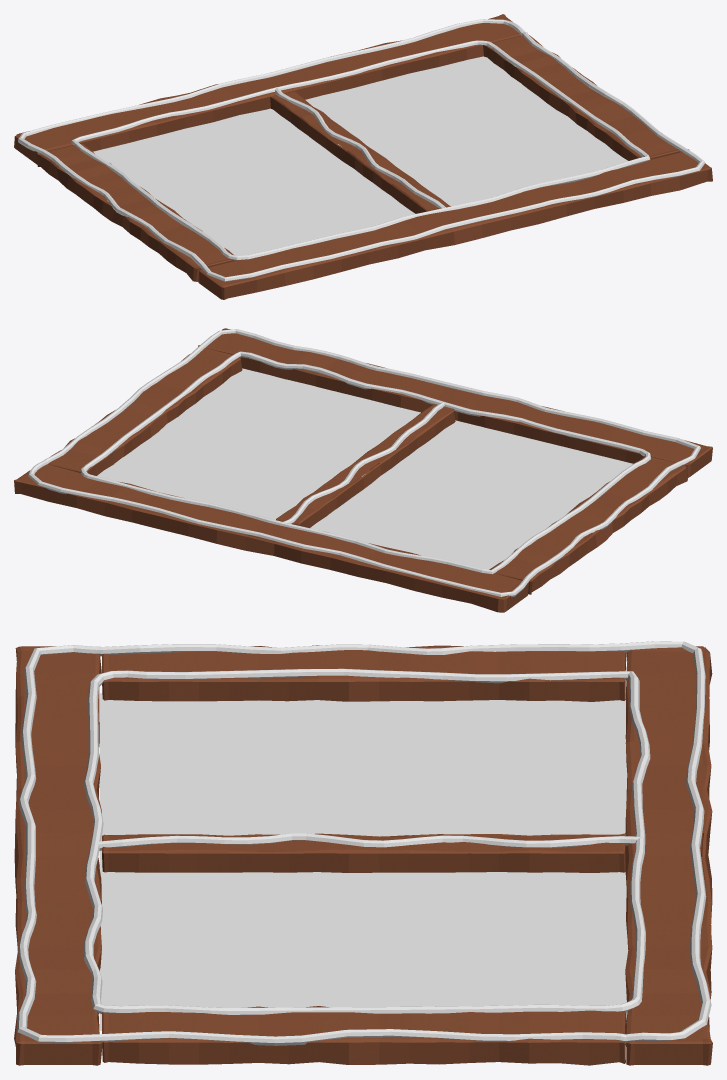
Rendered from Okno.fbx.
3 views of the same model, one above another, from view 1: azimuth 30°, elevation 25°; view 2: azimuth 150°, elevation 25°; view 3: azimuth 270°, elevation 25° (orthographic). The views are drawn at different scales.
Visible parts, largest first — view 1: Plane.001, Cube.004, BézierCurve.001; view 2: Plane.001, Cube.004, BézierCurve.001; view 3: Plane.001, Cube.004, BézierCurve.001.
Part boxes in pixels (x1,y1,x2,y2): Plane.001: [93, 56, 628, 255]; Cube.004: [14, 14, 712, 299]; BézierCurve.001: [18, 19, 705, 281]; Plane.001: [97, 368, 633, 569]; Cube.004: [14, 328, 712, 612]; BézierCurve.001: [28, 329, 700, 597]; Plane.001: [99, 693, 628, 1030]; Cube.004: [14, 645, 712, 1065]; BézierCurve.001: [17, 641, 711, 1045].
Size of the model in its own units: 1176 by 43.1 by 869.
1 material, 1 textured.
